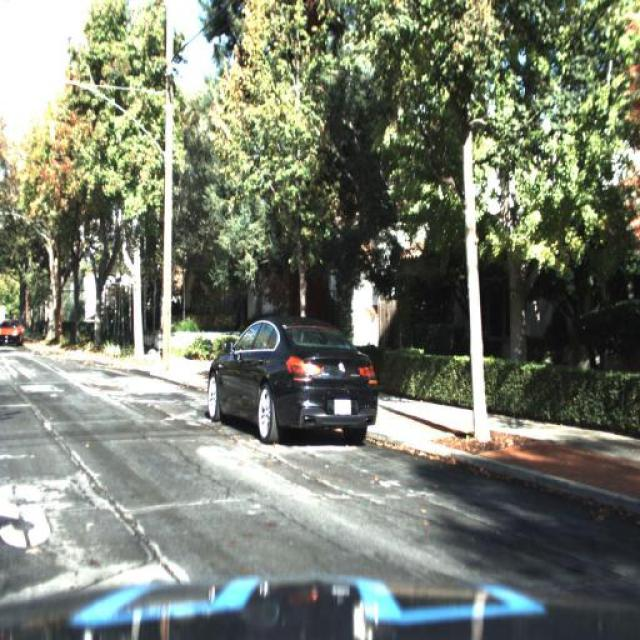car: (200, 314, 382, 447), (204, 319, 382, 441), (0, 312, 22, 353)
